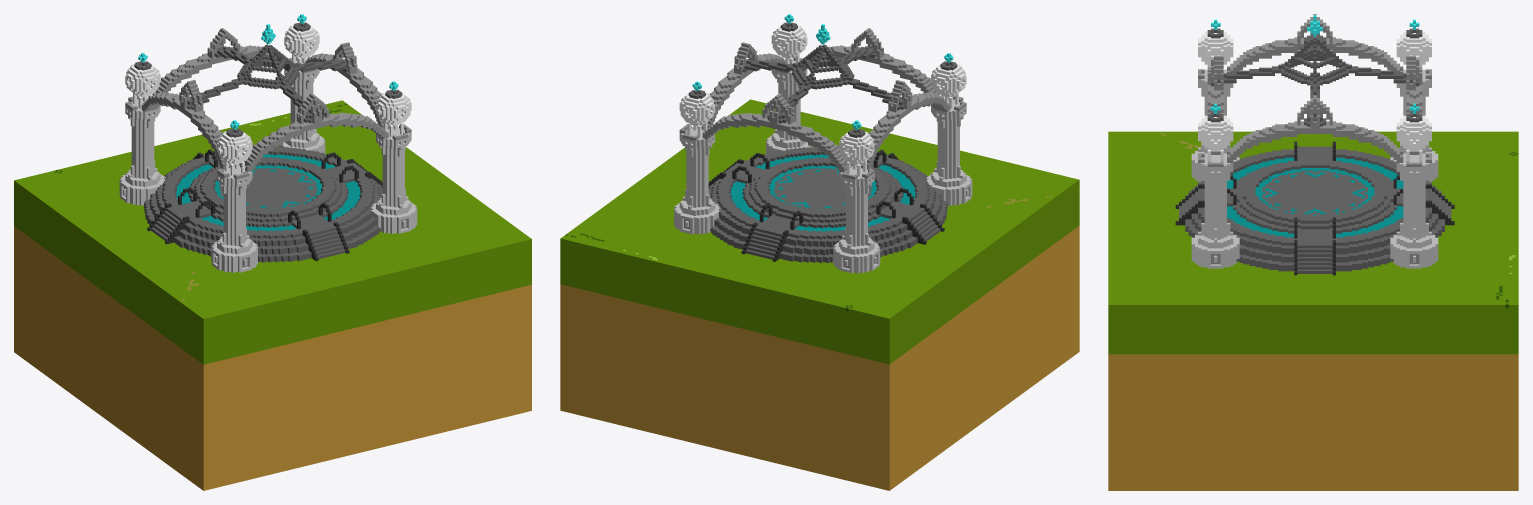
3 views of the same model, side by side, from view 1: azimuth 30°, elevation 25°; view 2: azimuth 150°, elevation 25°; view 3: azimuth 270°, elevation 25° (orthographic). The views are drawn at different scales.
Parts seen in each view (by area): view 1: 8J; view 2: 8J; view 3: 8J.
Part boxes in pixels (x1=…): 8J: x1=14, y1=14, x2=531, y2=490; 8J: x1=560, y1=14, x2=1079, y2=490; 8J: x1=1108, y1=14, x2=1518, y2=490.
Bounding box in the file's own units: 12.8 × 13.3 × 12.8.
Materials: 1 (1 with a texture image).
